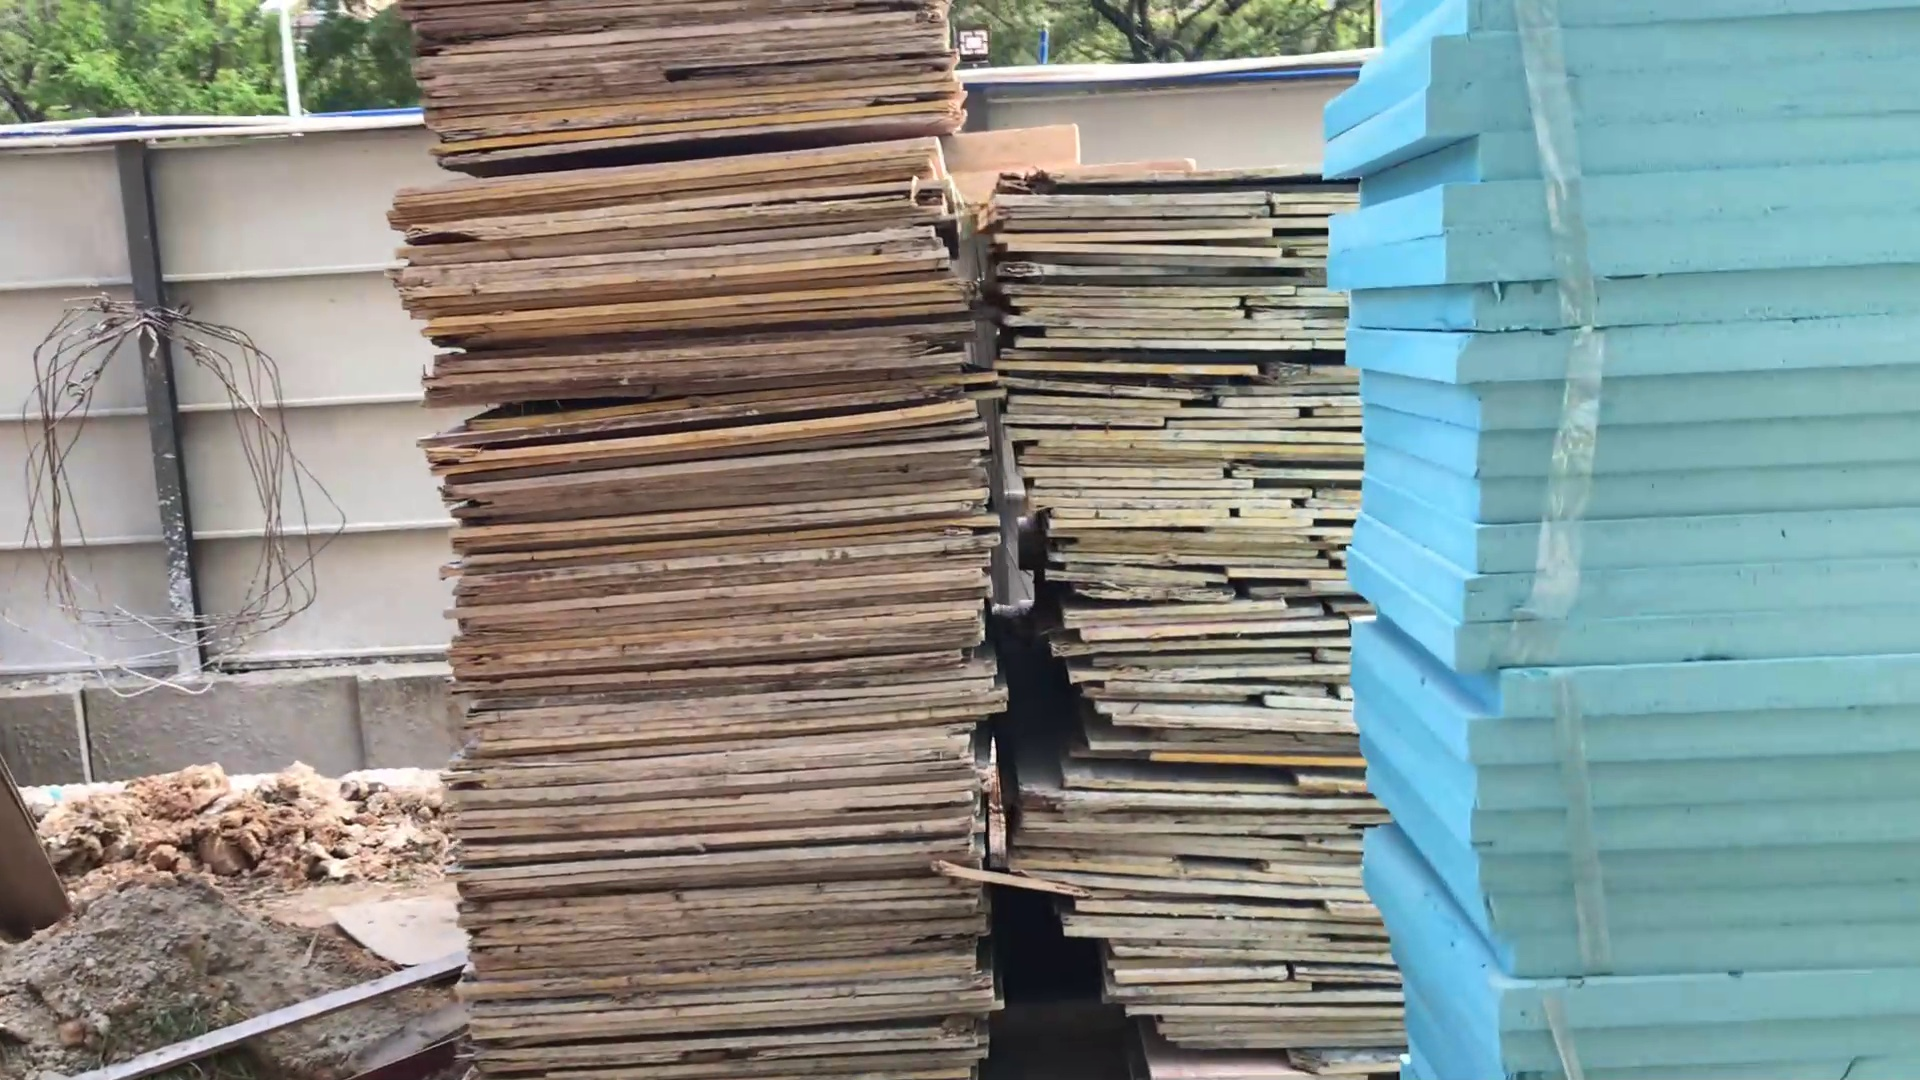board: (388, 1, 1358, 1080)
